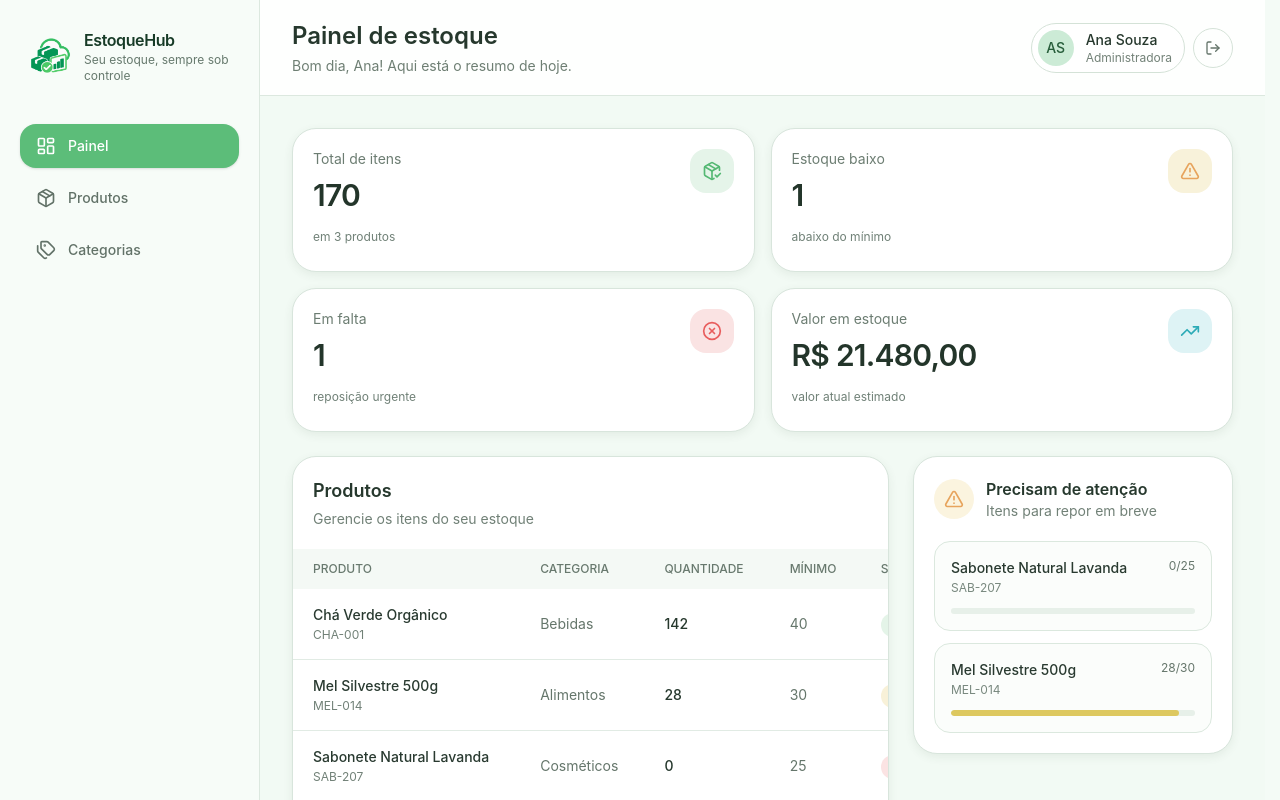
it: authenticated application shell › logs out through the header action
The width and height of the screenshot is (1280, 800).
Click the button named "sair" at (1213, 48), box [1193, 28, 1233, 68]
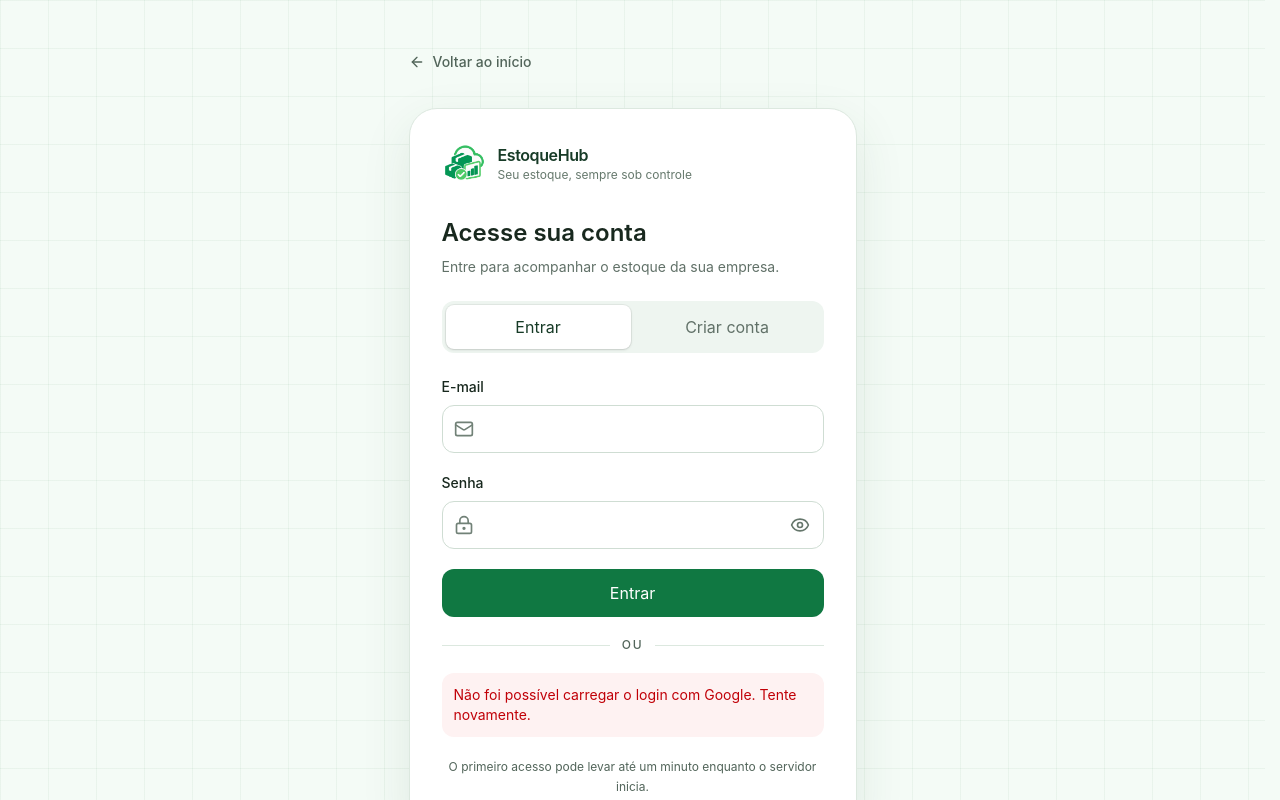
Now the heading "Acesse sua conta" is shown, box [442, 218, 647, 247]
